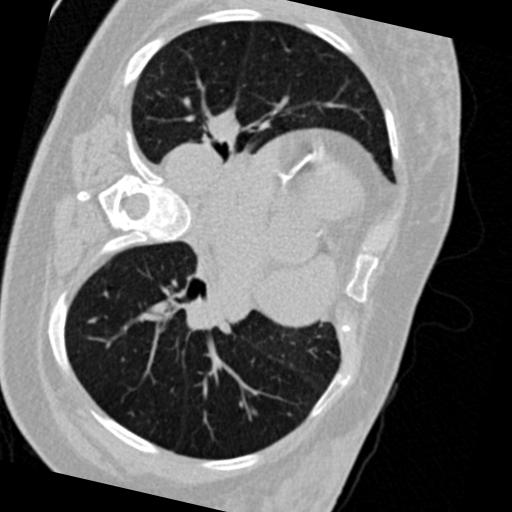nodule: (246, 406, 262, 422)
